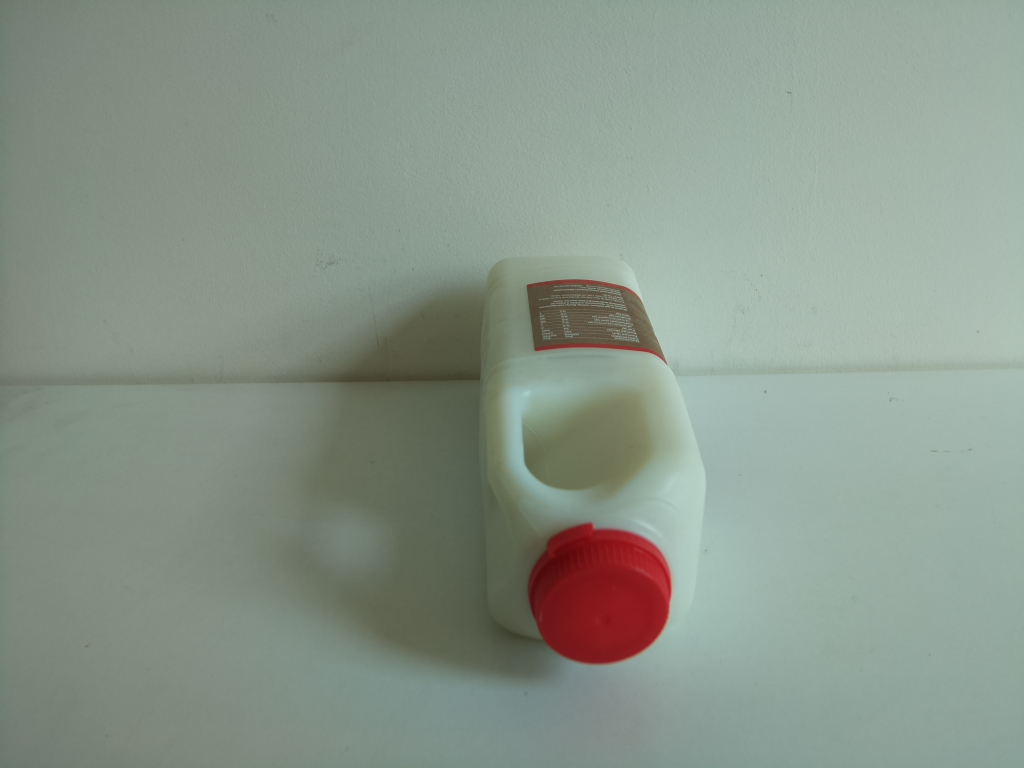milk: (473, 252, 712, 668)
